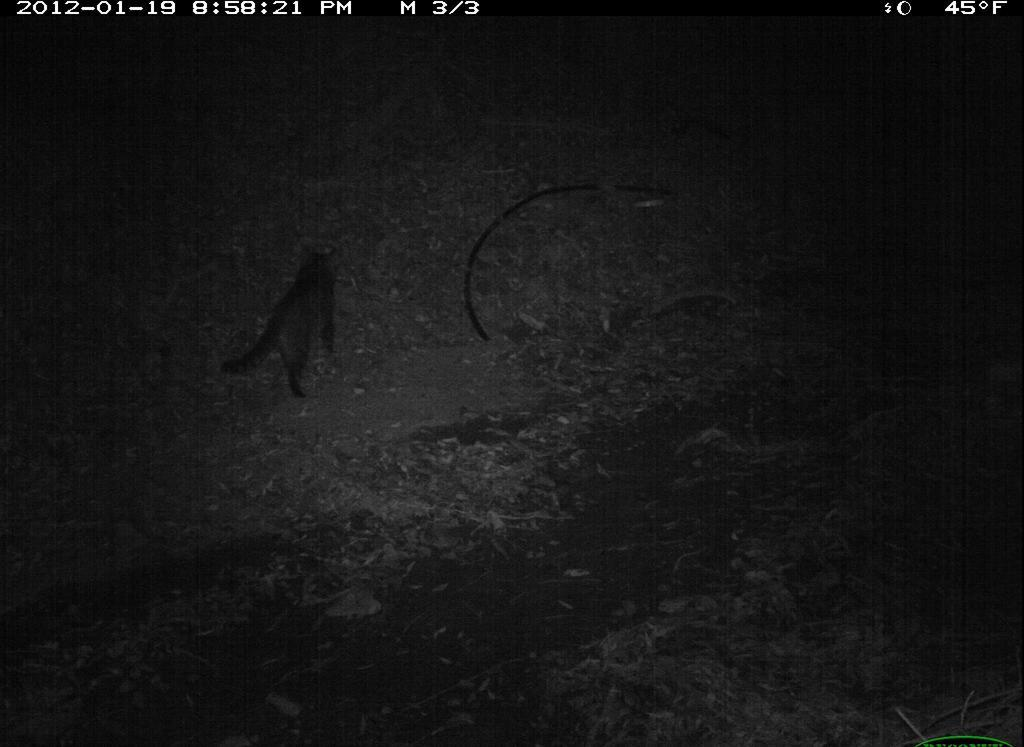cat: (219, 246, 374, 408)
